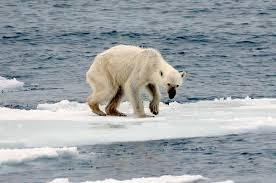bear: (84, 40, 187, 125)
